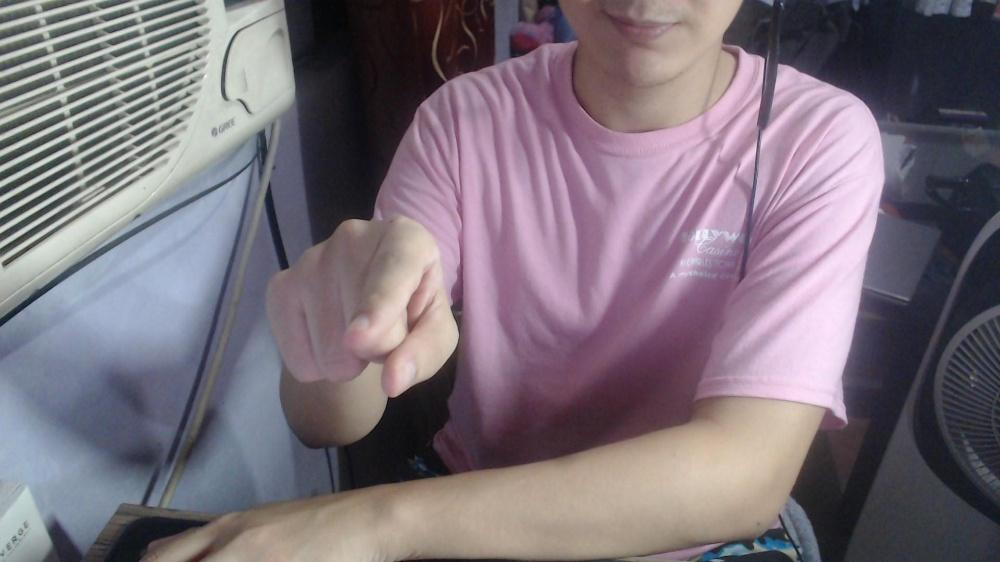z: (260, 207, 461, 402)
